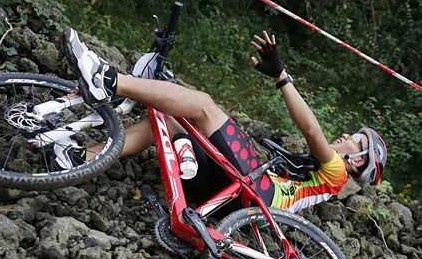falling: (62, 19, 400, 238)
